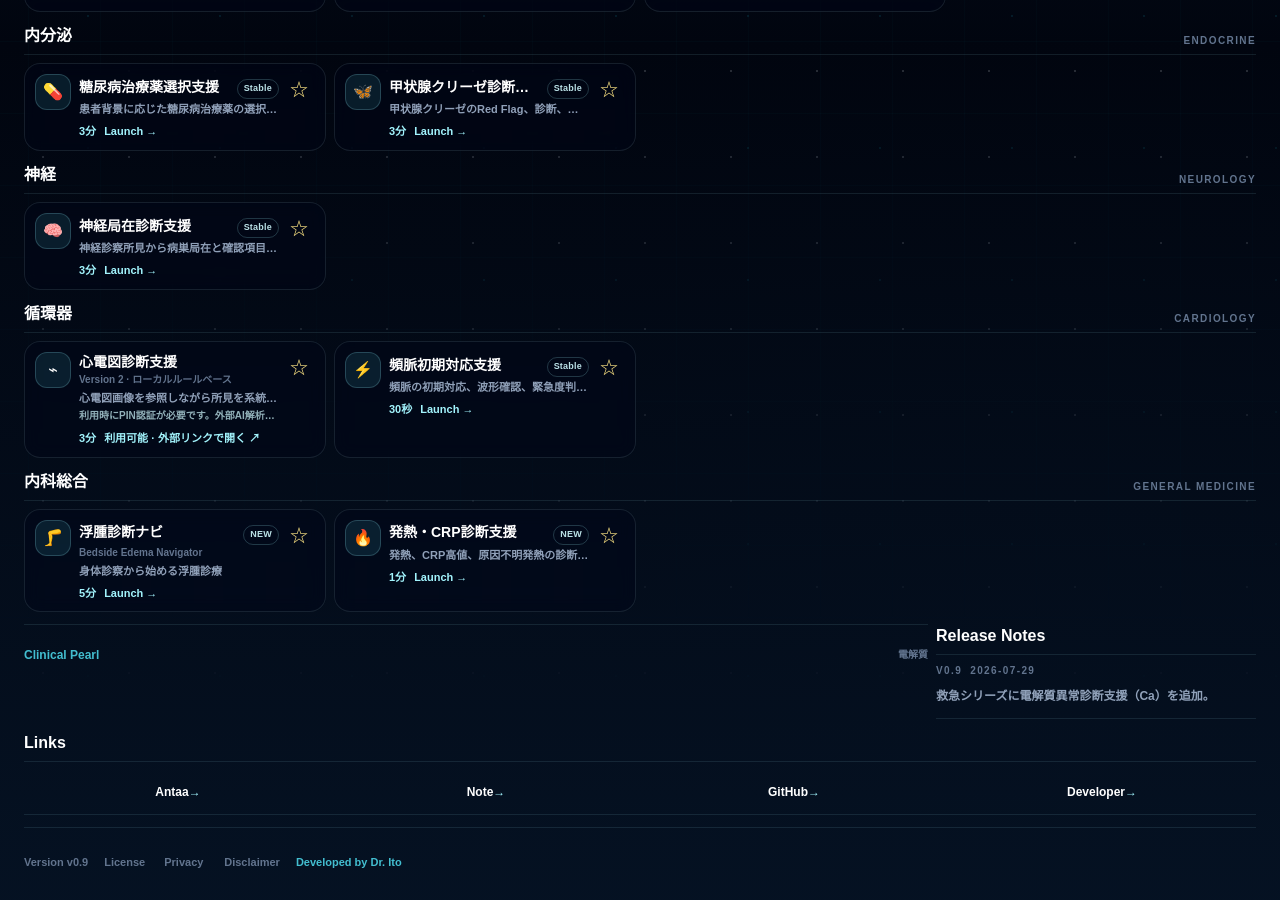
Test: Medical AI Console v3 › adds launched apps to Recent with timestamp data
The image size is (1280, 900).
(page scrolled)
Click the link with aria-label "発熱・CRP診断支援を開く" at (485, 552), box [345, 520, 625, 585]
(page scrolled)
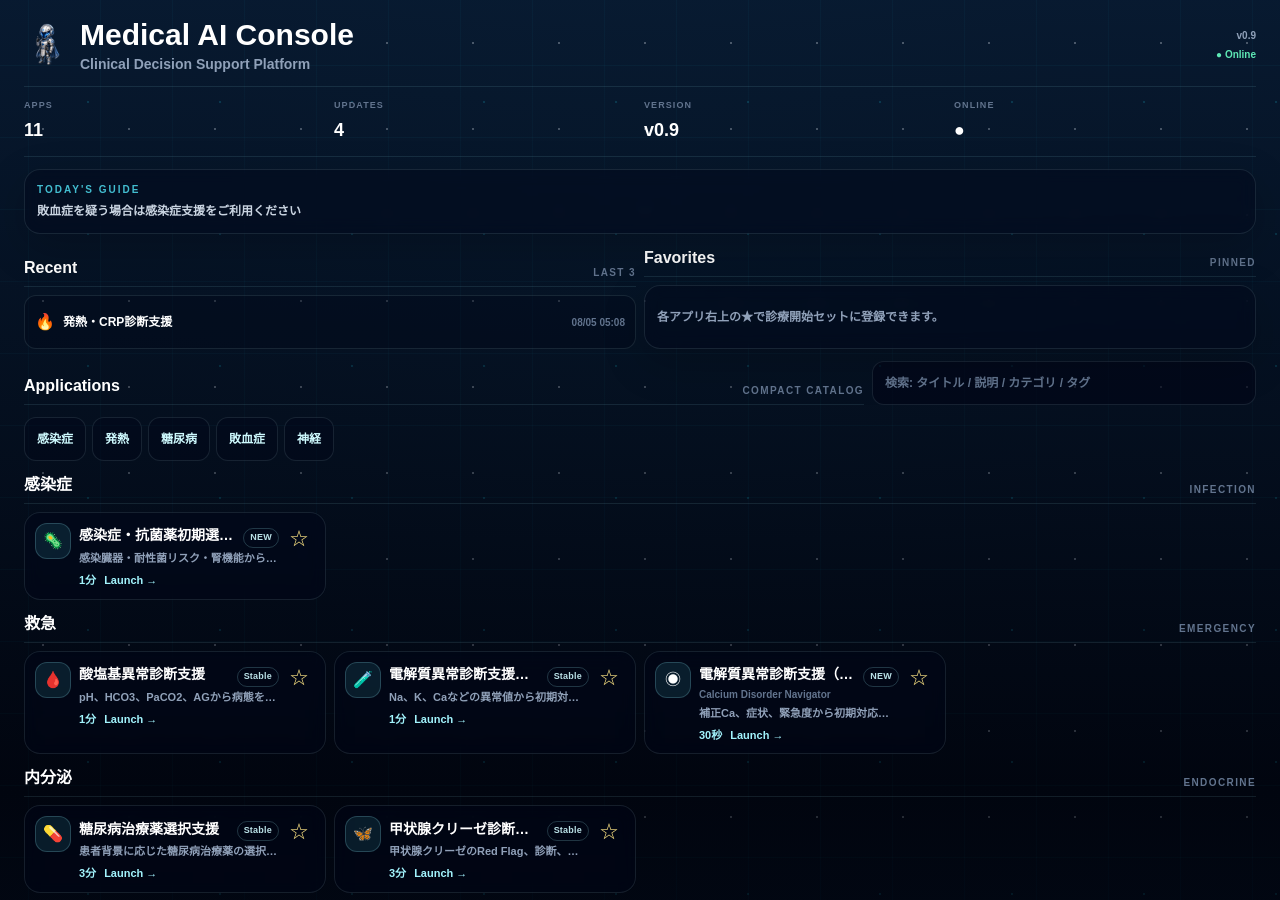
Now the text "発熱・CRP診断支援" is shown, box [63, 315, 172, 329]
